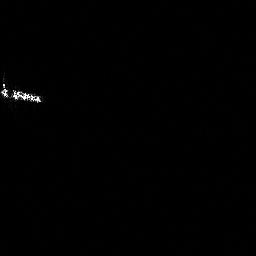ship: (1, 78, 46, 106)
